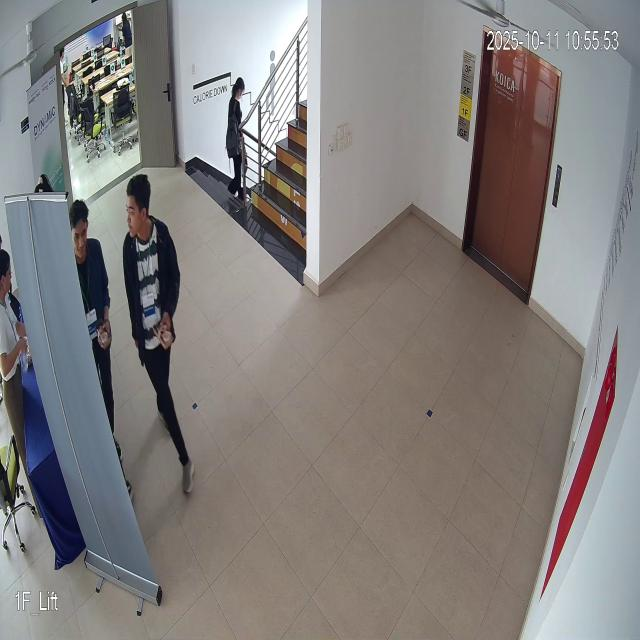face: (120, 170, 153, 246)
